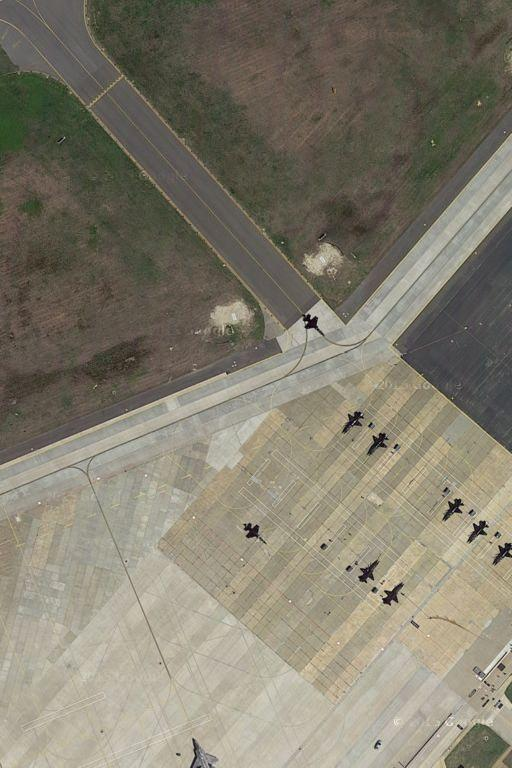plane: (297, 309, 329, 340), (337, 407, 368, 439), (362, 427, 392, 460), (438, 494, 467, 528), (378, 580, 409, 610), (237, 519, 270, 547), (353, 556, 383, 586), (465, 513, 489, 549), (487, 535, 512, 569)
